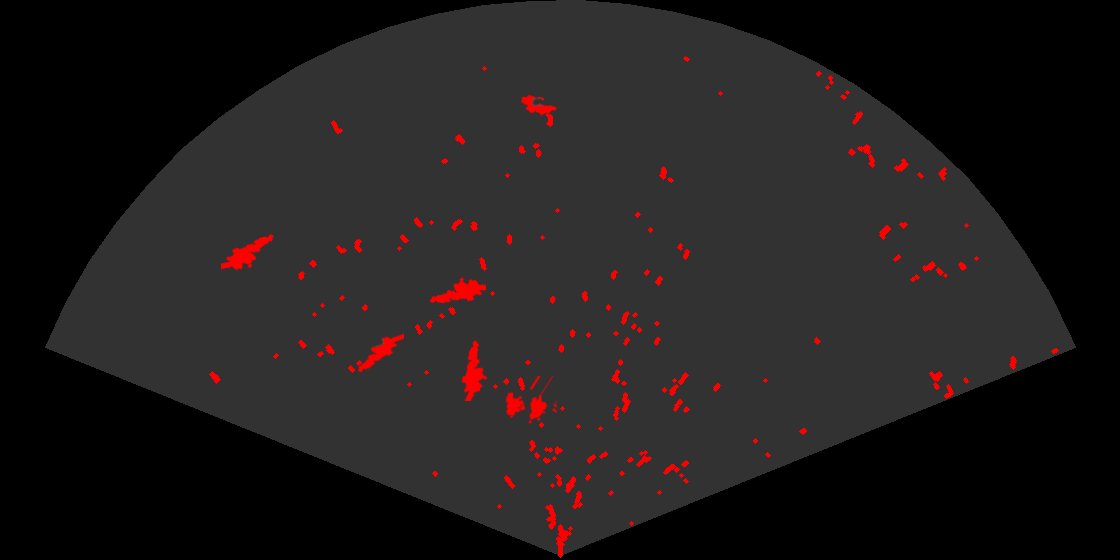AUV: (519, 93, 559, 117)
cage: (504, 376, 557, 425)
frogman: (348, 332, 404, 375), (221, 233, 276, 272), (460, 339, 489, 401), (428, 275, 486, 305)
